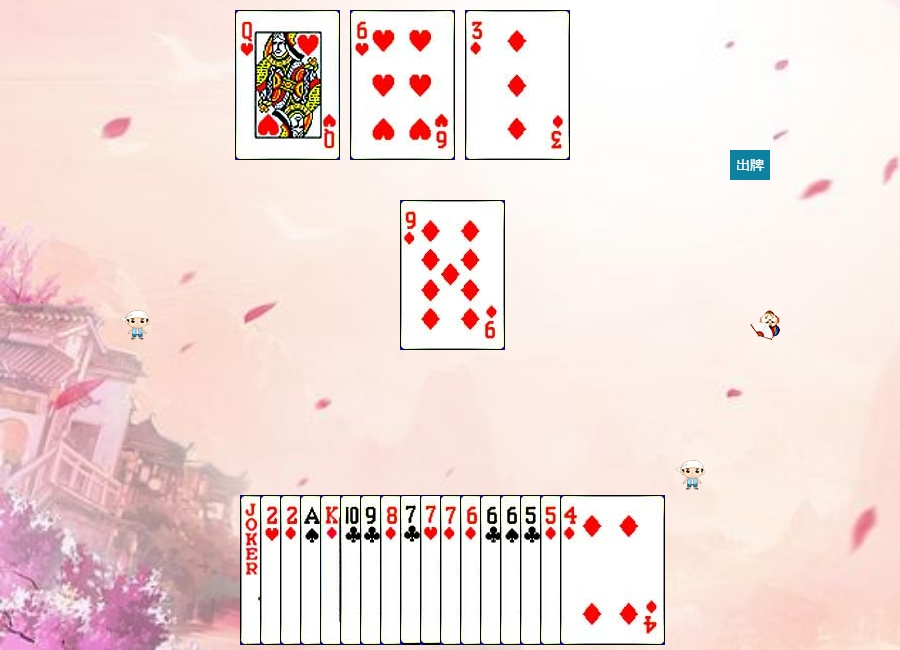10~2: (340, 495, 445, 645)
12~3: (235, 10, 340, 160)
13~1: (320, 495, 425, 645)
14~4: (300, 495, 405, 645)
15~1: (280, 495, 385, 645)
15~3: (260, 495, 365, 645)
18~4: (240, 495, 345, 645)
3~1: (465, 10, 570, 160)
4~1: (560, 495, 665, 645)
5~1: (540, 495, 645, 645)
5~2: (520, 495, 625, 645)
6~1: (460, 495, 565, 645)
6~2: (480, 495, 585, 645)
6~3: (350, 10, 455, 160)
6~4: (500, 495, 605, 645)
7~1: (440, 495, 545, 645)
7~2: (400, 495, 505, 645)
7~3: (420, 495, 525, 645)
8~1: (380, 495, 485, 645)
9~1: (400, 200, 505, 350)
9~2: (360, 495, 465, 645)
